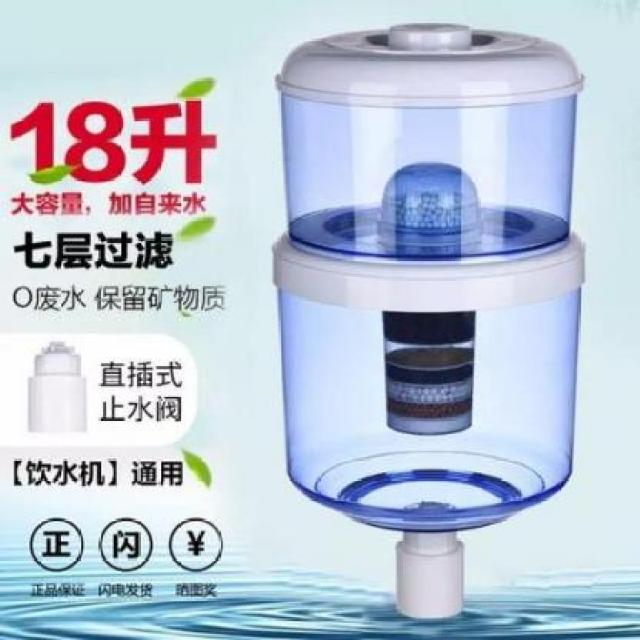coolerbottle: (269, 15, 591, 532)
